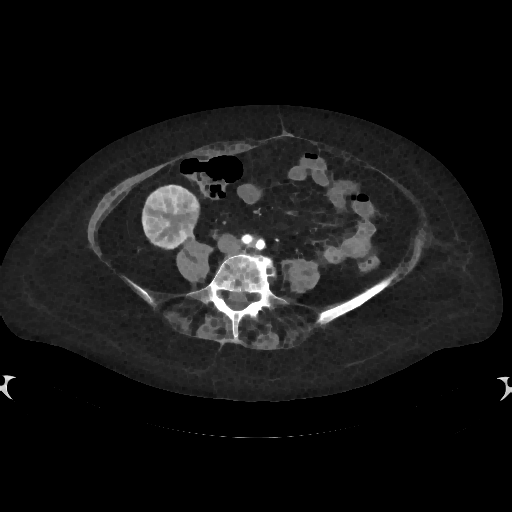Lesion: (138, 180, 202, 252)
